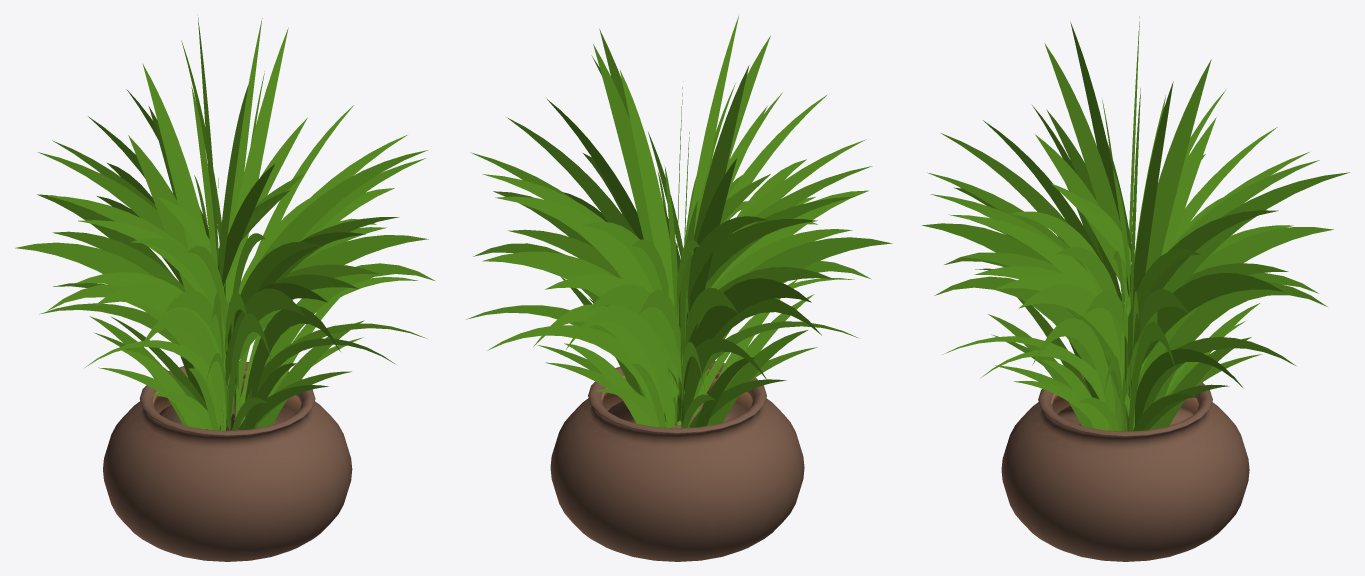
3 renders of one model, left to right at view 1: azimuth 30°, elevation 25°; view 2: azimuth 150°, elevation 25°; view 3: azimuth 270°, elevation 25°, orthographic. The views are drawn at different scales.
Visible parts, largest first — view 1: Plant1; view 2: Plant1; view 3: Plant1.
Boxes of the visible parts, x1=… form: Plant1: x1=15, y1=17, x2=434, y2=561; Plant1: x1=466, y1=16, x2=892, y2=561; Plant1: x1=922, y1=16, x2=1349, y2=561.
Size of the model in its own units: 60.25 by 77.61 by 63.89.
